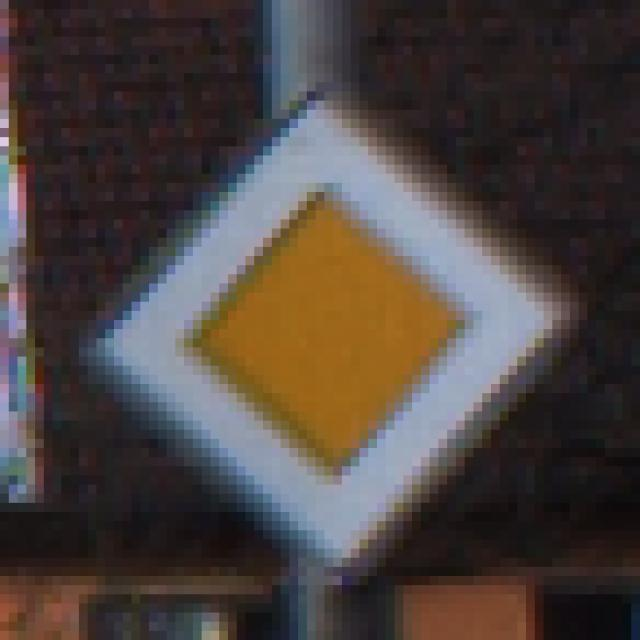Main Road: (63, 65, 589, 586)
